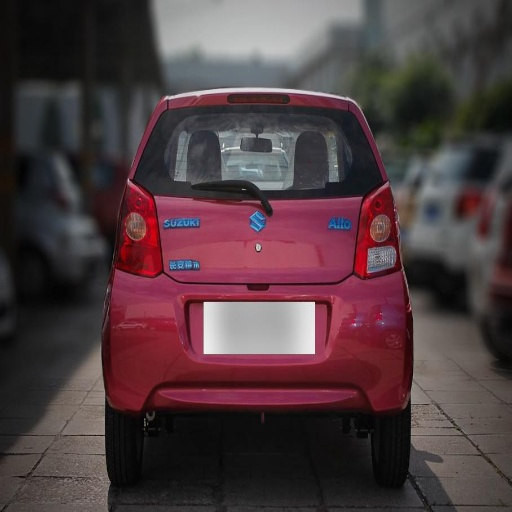back_bumper: (102, 269, 409, 409)
back_right_light: (357, 196, 399, 277)
front_bumper: (201, 371, 315, 410)
trunk: (142, 175, 377, 351)
